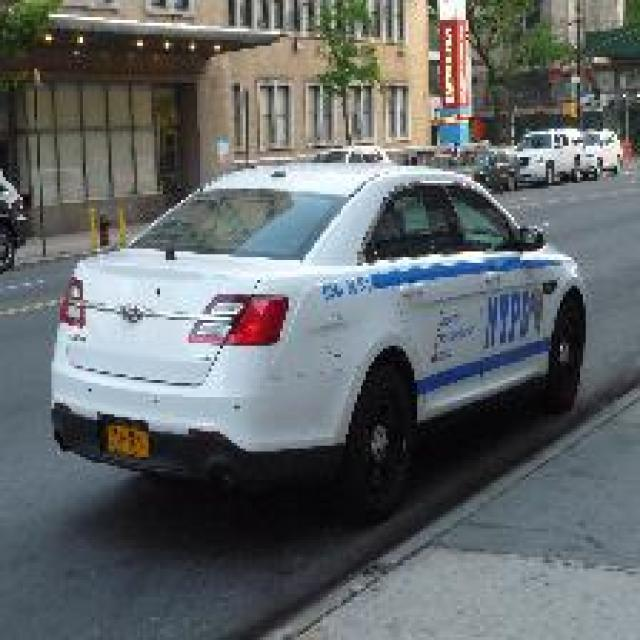emergency: (47, 157, 590, 521)
